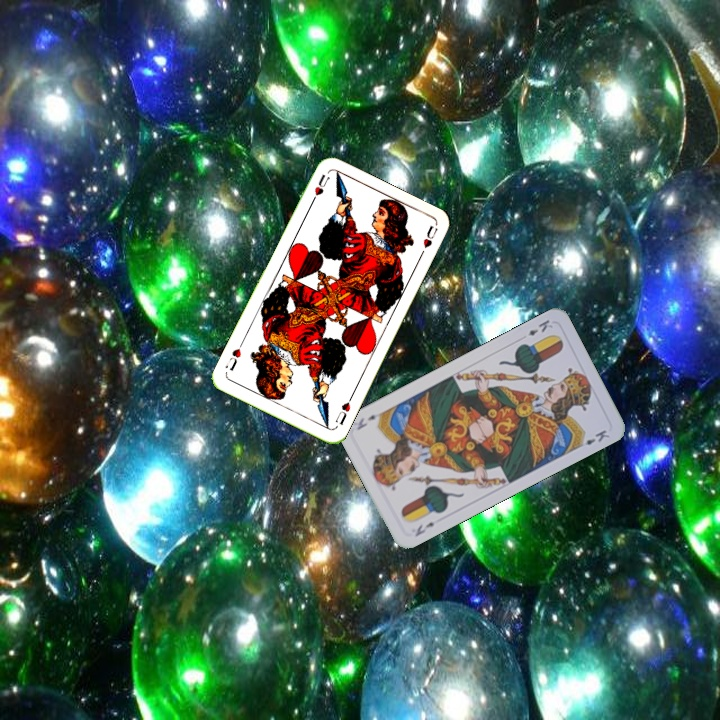EK: (524, 315, 555, 339), (411, 518, 437, 539)
HU: (307, 170, 332, 207), (331, 392, 355, 428)
